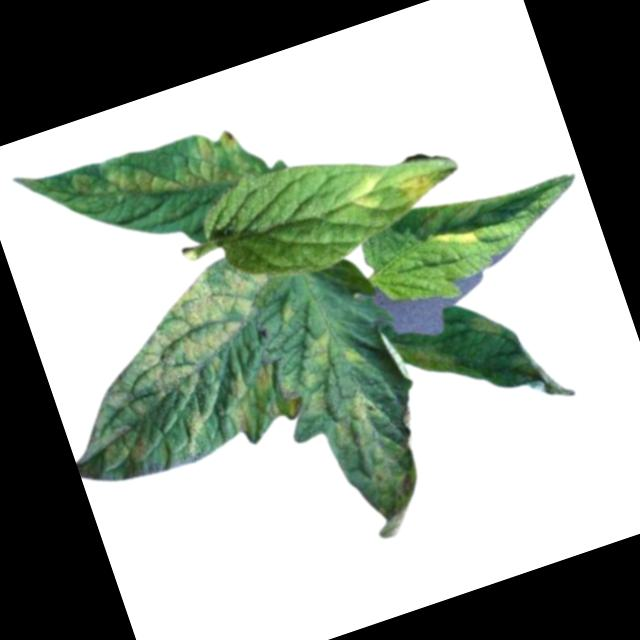Leaf_Mold: (31, 248, 314, 494), (264, 310, 451, 557), (64, 116, 251, 234), (385, 164, 439, 211), (342, 167, 391, 214), (462, 306, 505, 346), (430, 225, 479, 257)
